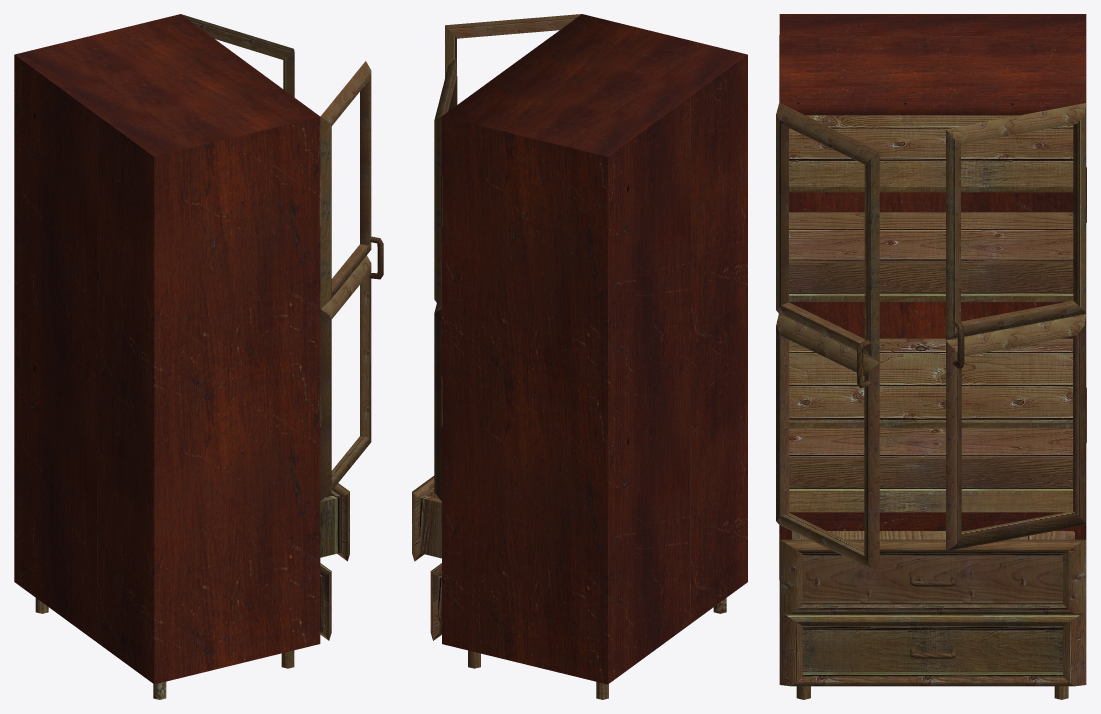
File: M_Home_Garden_CubBoards04.fbx
3 renders of one model, left to right at view 1: azimuth 30°, elevation 25°; view 2: azimuth 150°, elevation 25°; view 3: azimuth 270°, elevation 25°, orthographic. The views are drawn at different scales.
Parts seen in each view (by area): view 1: M_Home_Garden_CubBoards04; view 2: M_Home_Garden_CubBoards04; view 3: M_Home_Garden_CubBoards04.
Boxes of the visible parts, <box> form: M_Home_Garden_CubBoards04: <box>14,14,383,699</box>; M_Home_Garden_CubBoards04: <box>412,14,747,699</box>; M_Home_Garden_CubBoards04: <box>776,14,1086,699</box>.
Size of the model in its own units: 110 by 218 by 101.
